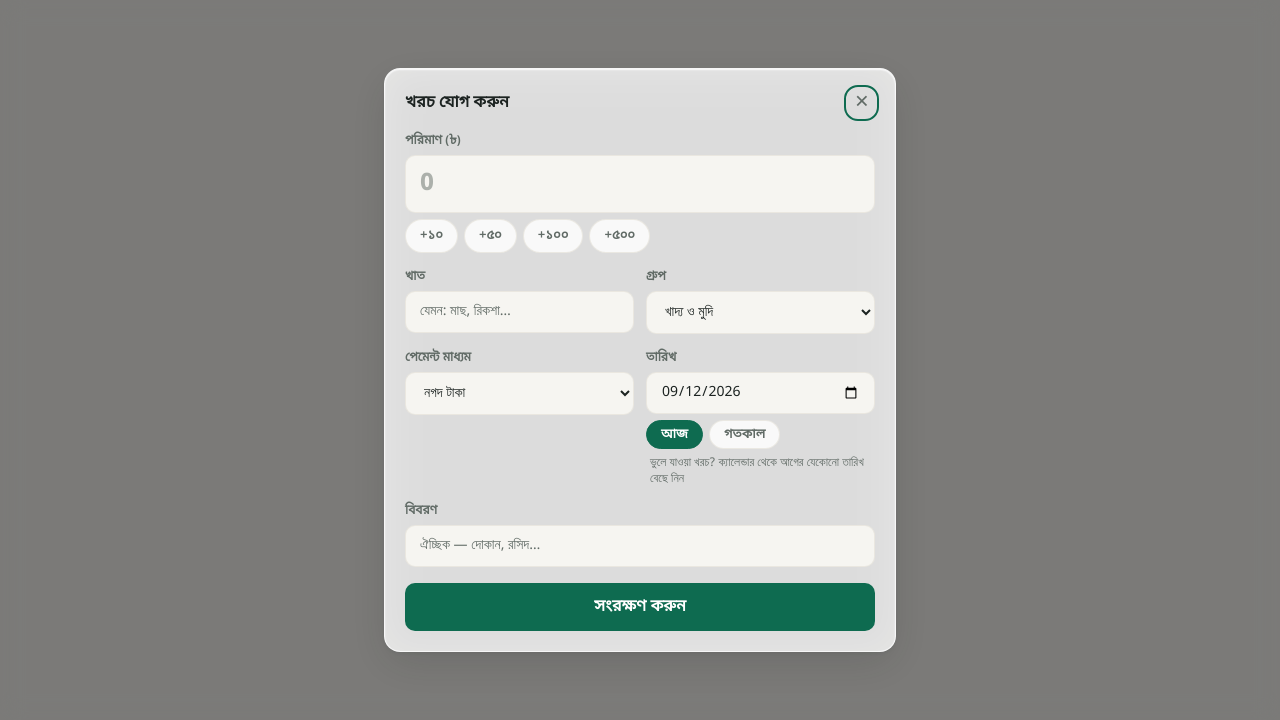
ExpenseForm duplicate guard (T24.1) › an identical expense saved minutes ago waits for an explicit তবুও যোগ করুন
Type "৪০" into the field labelled "পরিমাণ (৳)" at (640, 184), box [405,155,875,213]
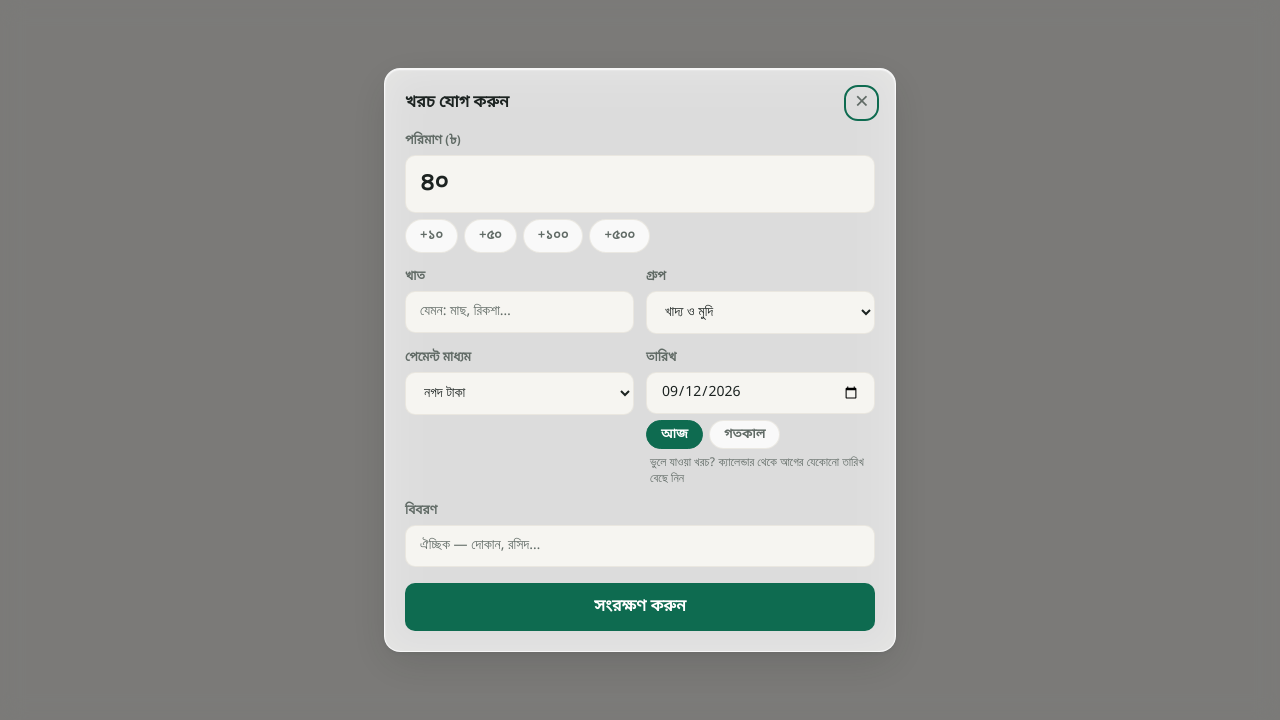
Type "চা" into the dropdown labelled "খাত" at (520, 312), box [405,290,634,332]
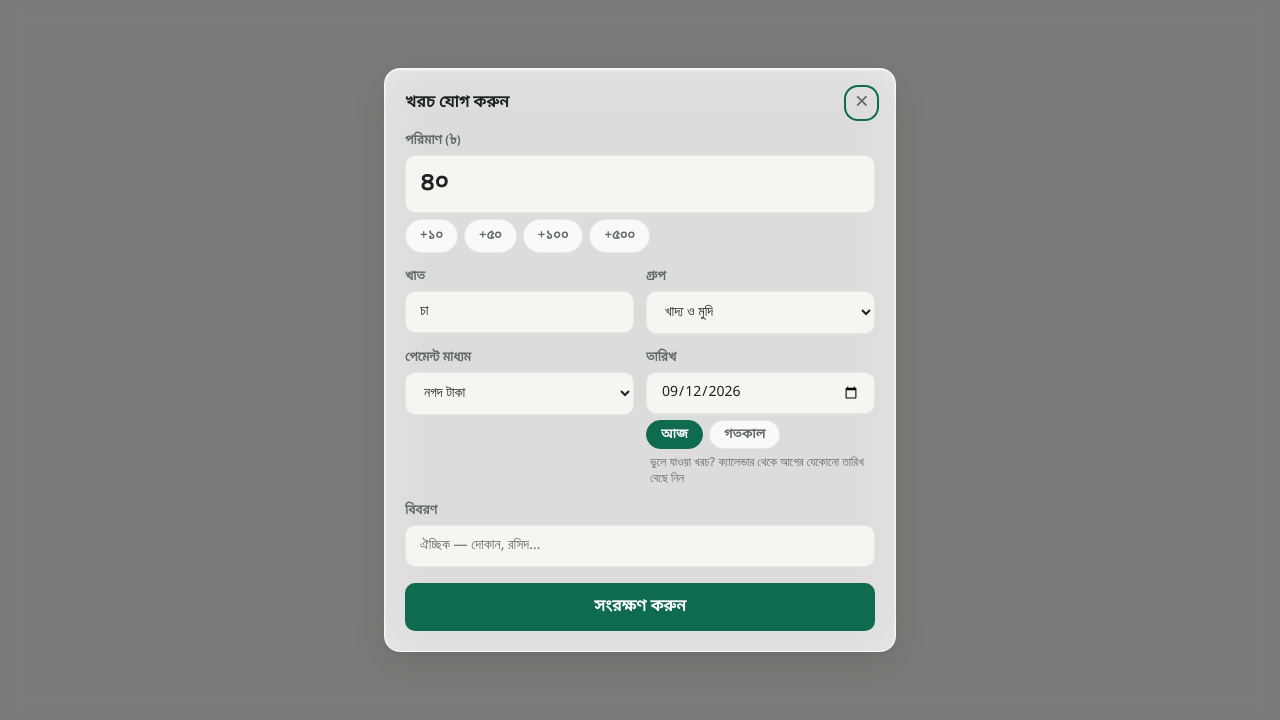
Submit the form, box [385,69,895,651]
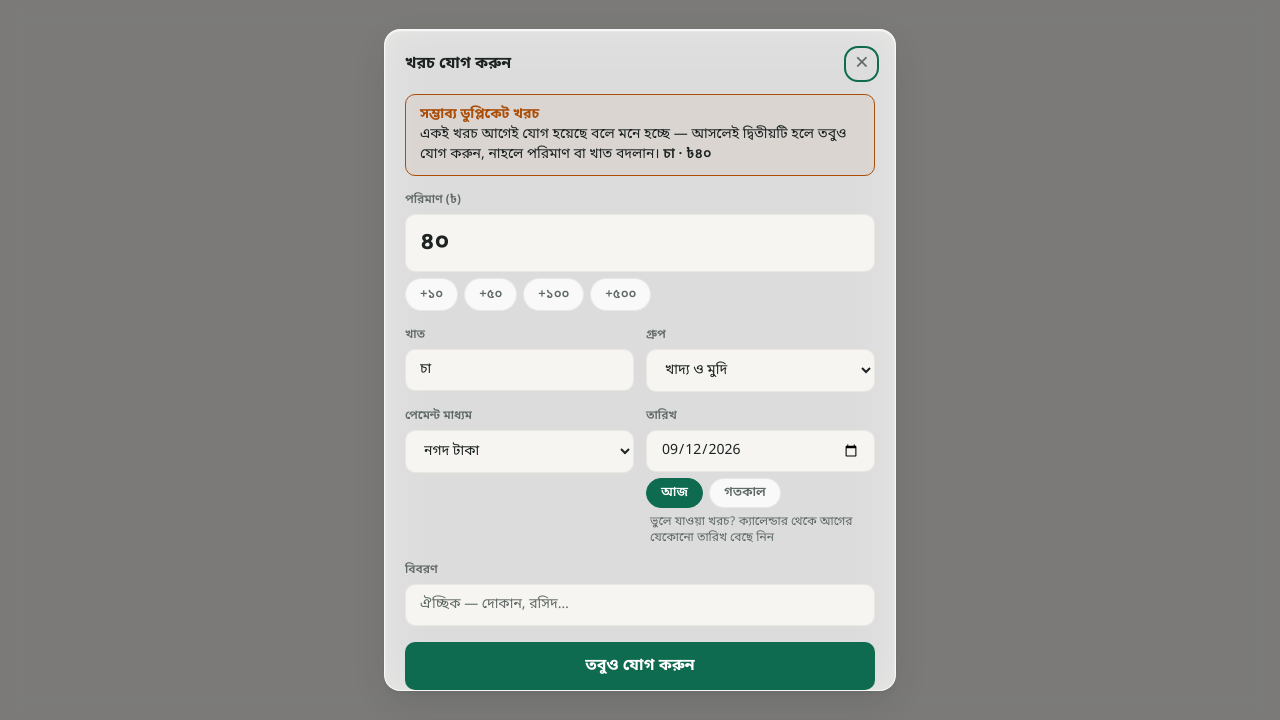
Now the message shows "চা · ৳৪০", box [405,94,875,176]
Click the button "তবুও যোগ করুন" at (640, 666), box [405,642,875,690]
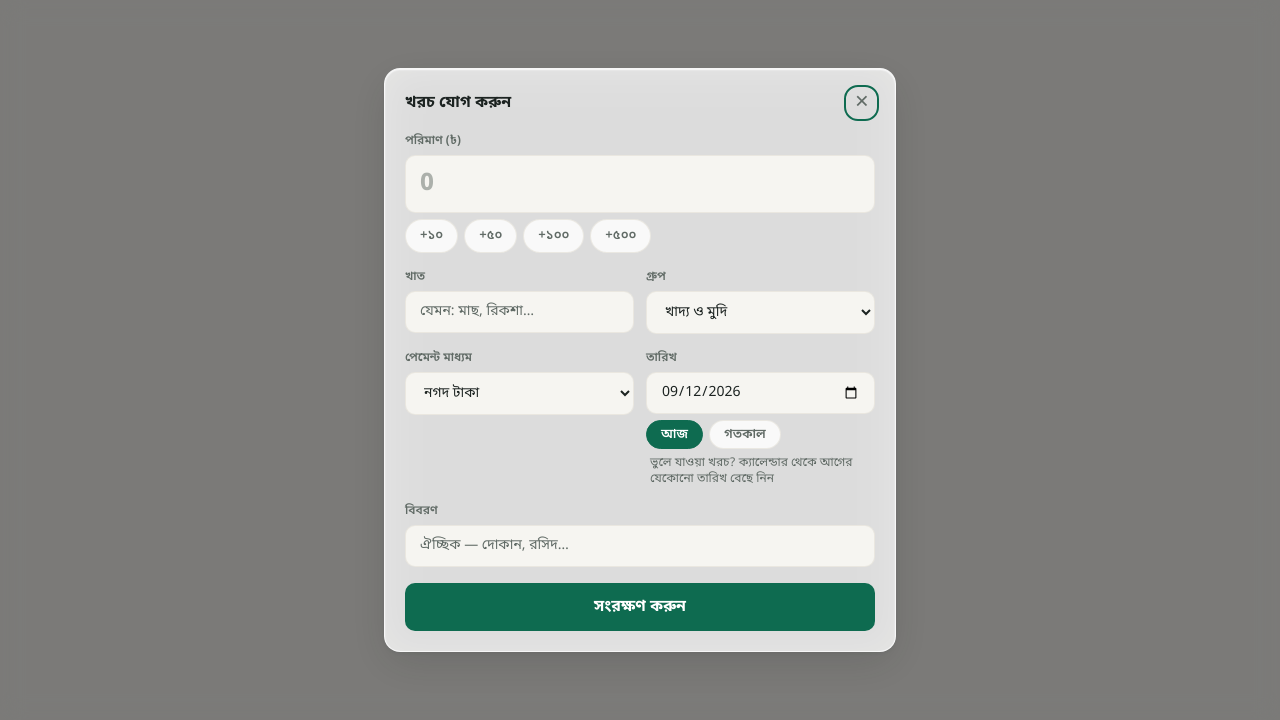
Now the message "সম্ভাব্য ডুপ্লিকেট খরচ একই খরচ আগেই যোগ হয়েছে বলে মনে হচ্ছে — আসলেই দ্বিতীয়টি" is gone
